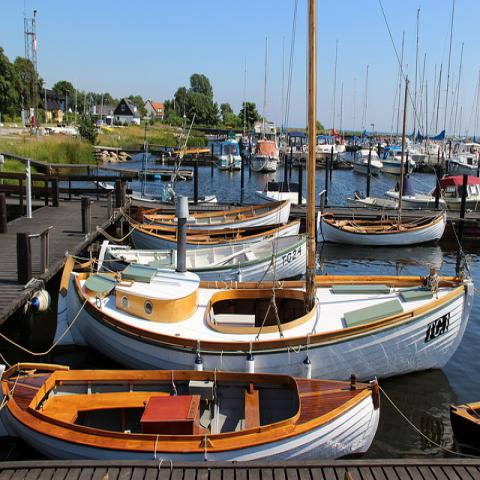car: (95, 120, 107, 130), (130, 121, 138, 125)
